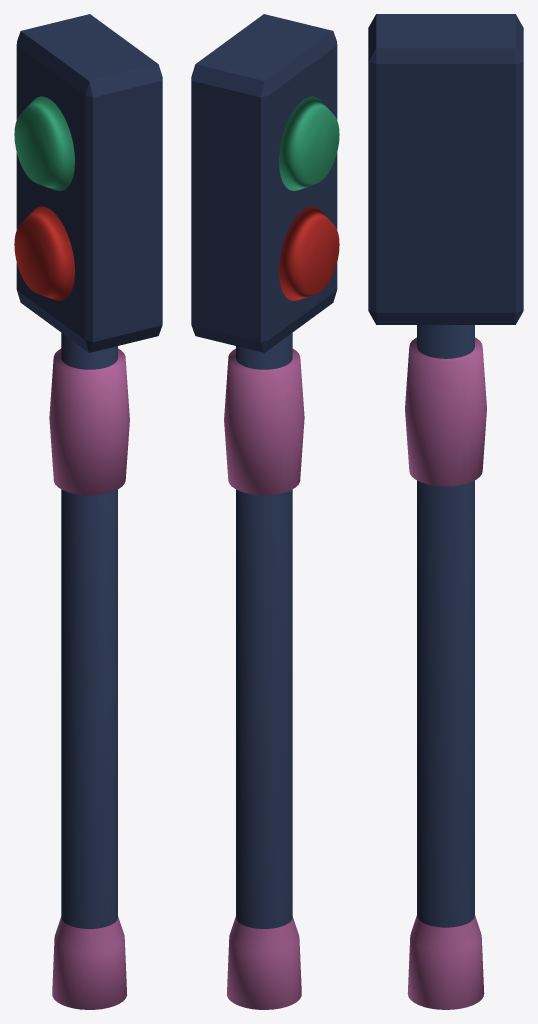
Rendered from TrafficLightModel01.fbx.
3 views of the same model, side by side, from view 1: azimuth 30°, elevation 25°; view 2: azimuth 150°, elevation 25°; view 3: azimuth 270°, elevation 25° (orthographic).
Parts seen in each view (by area): view 1: TrafficLight01; view 2: TrafficLight01; view 3: TrafficLight01.
Boxes of the visible parts, x1=… form: TrafficLight01: x1=14, y1=14, x2=162, y2=1009; TrafficLight01: x1=191, y1=14, x2=339, y2=1009; TrafficLight01: x1=368, y1=14, x2=523, y2=1009.
Bounding box in the file's own units: 27.77 × 263 × 38.46.
